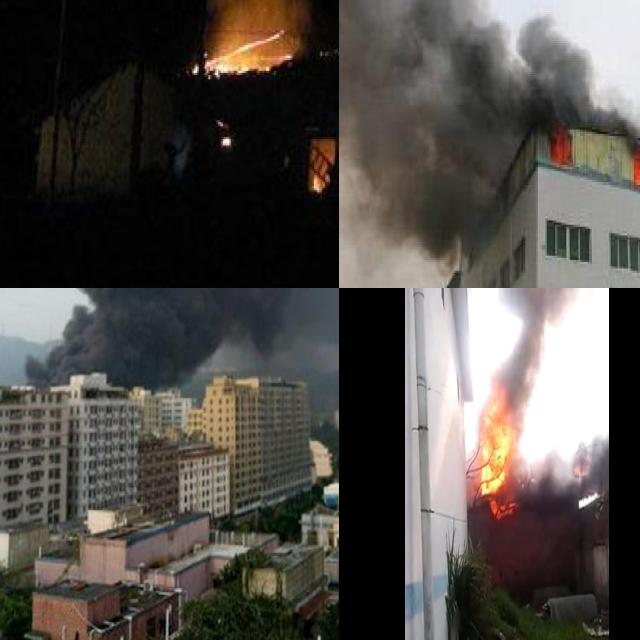fire: (191, 30, 293, 75), (478, 392, 515, 500), (550, 127, 571, 164), (631, 147, 640, 184)
smoke: (339, 0, 529, 262), (21, 288, 339, 389), (470, 288, 605, 421), (515, 12, 640, 142)
